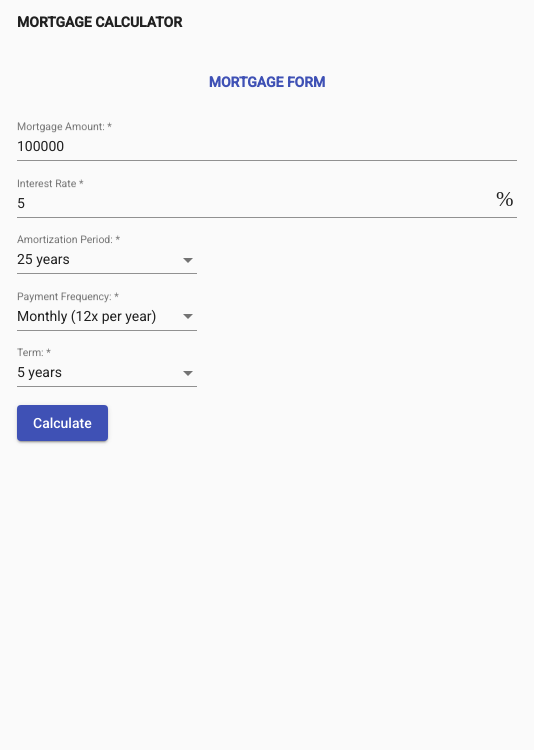
Scenario: Mortgage form test › Passing test
Replace the text in the field with test id "test-mortgageAmount" with "200000" at (267, 147), box [17,139,517,155]
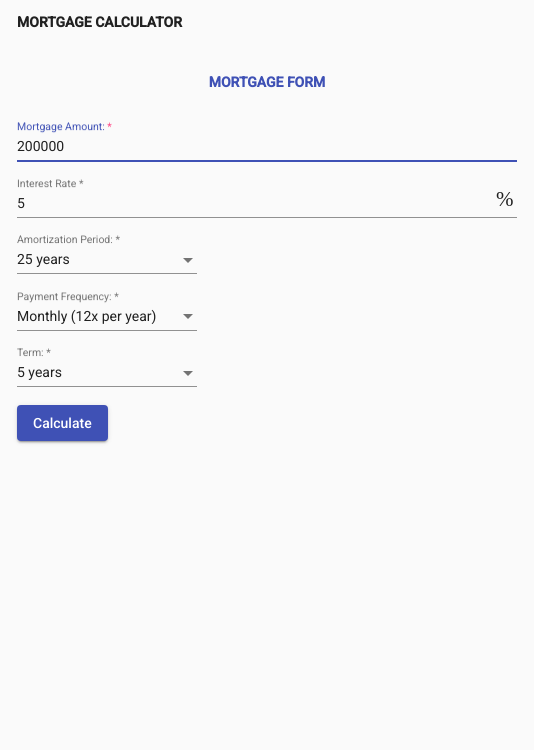
Replace the text in the field with test id "test-interestRate" with "2.8" at (257, 204), box [17,196,496,212]
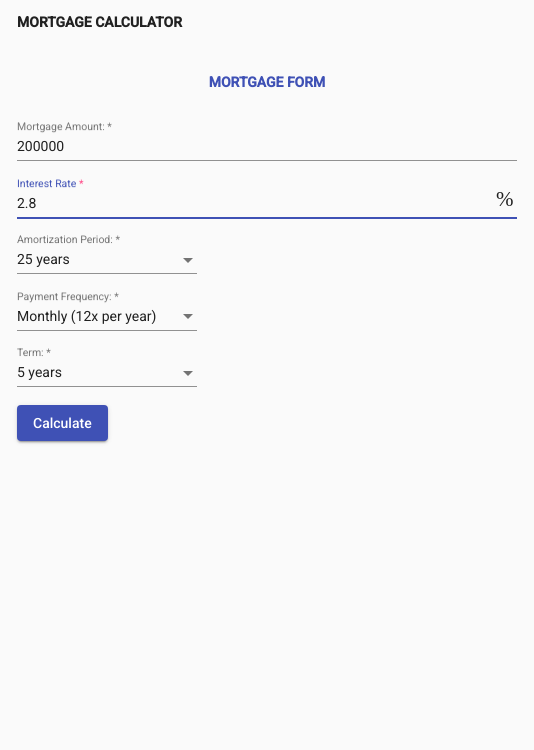
Click the button with test id "test-submit".
click(63, 423)  # box [17,405,108,441]
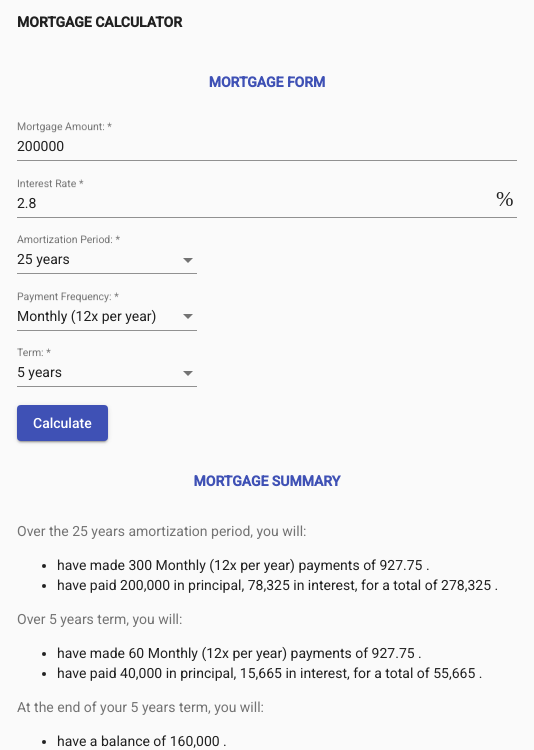
Result: the element with test id "test-result" is shown at [17,521,517,749]
